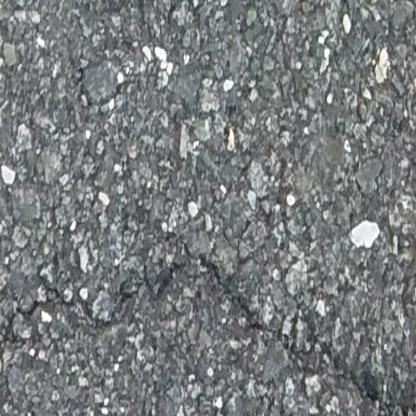Cracks: (0, 259, 416, 416)
